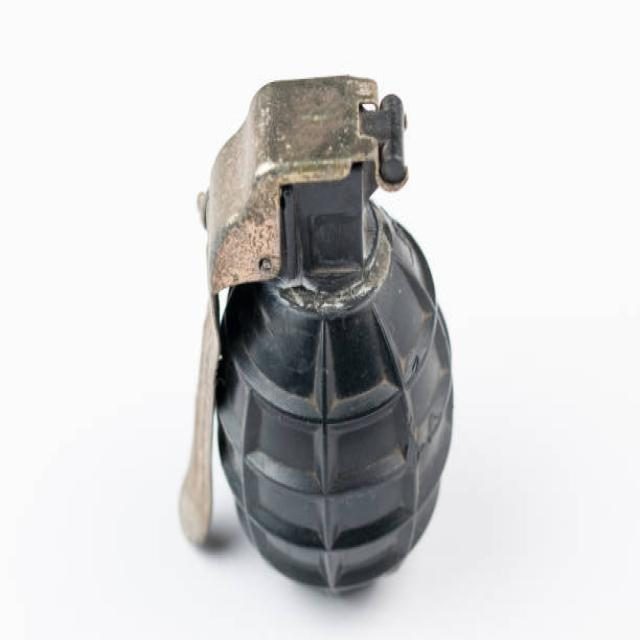grenade: (173, 56, 467, 595)
